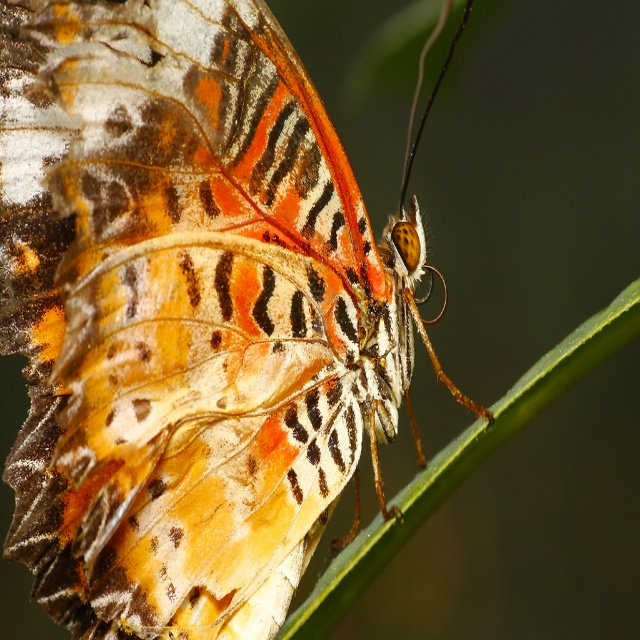Butterfly: (30, 0, 475, 640)
